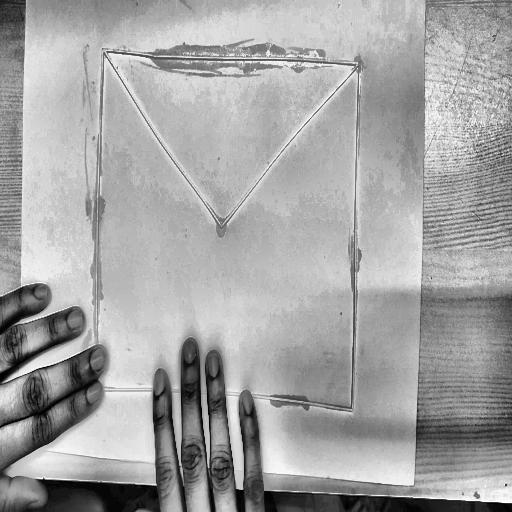bottom_left: (18, 434, 25, 445)
bottom_right: (409, 476, 418, 491)
envelop: (88, 43, 367, 423)
